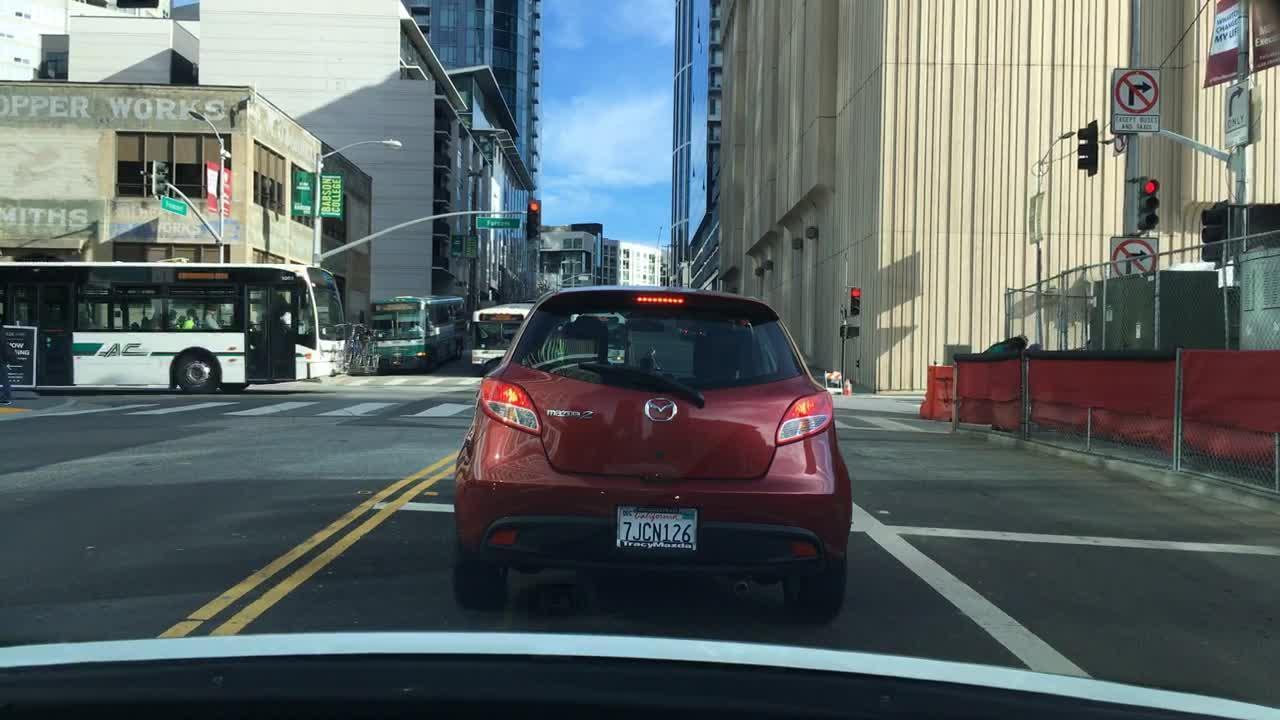Mazda: (641, 391, 685, 430)
